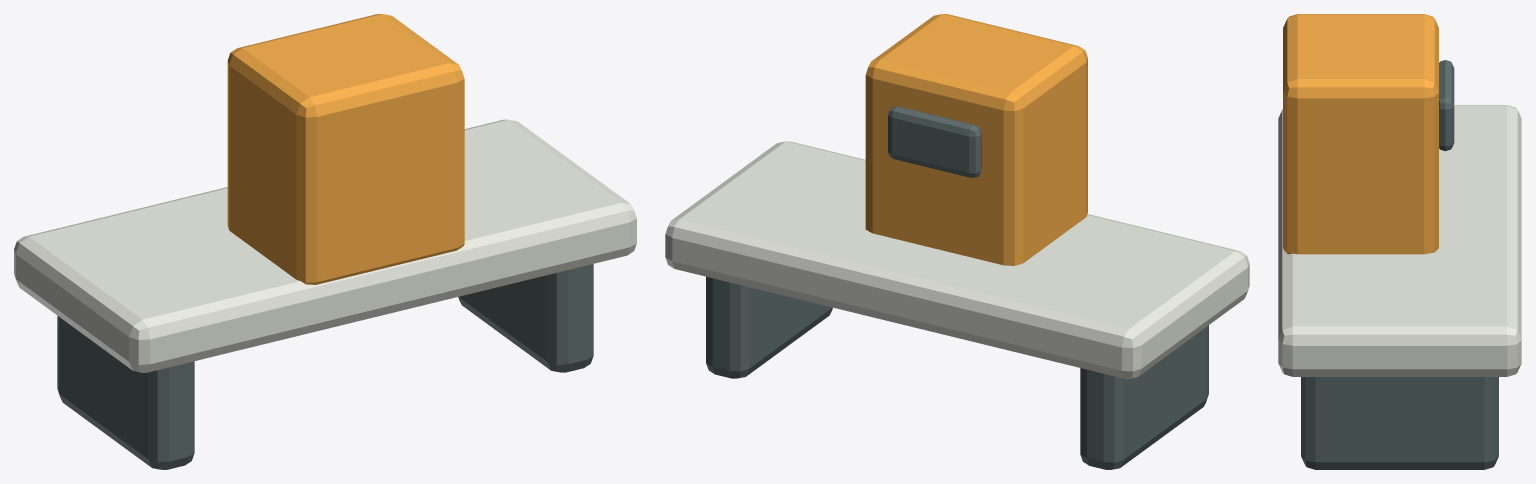
Rendered from workbench.glb.
3 views of the same model, side by side, from view 1: azimuth 30°, elevation 25°; view 2: azimuth 150°, elevation 25°; view 3: azimuth 270°, elevation 25° (orthographic). The views are drawn at different scales.
Visible parts, largest first — view 1: Bench, Machine, Bench leg, Bench leg.001; view 2: Bench, Machine, Bench leg, Bench leg.001, Machine screen; view 3: Bench, Machine, Bench leg.001, Machine screen.
Boxes of the visible parts, x1,y1,x2,y2 form: Bench: (14,119,636,372); Machine: (227,14,464,284); Bench leg: (57,316,194,469); Bench leg.001: (458,264,593,372); Bench: (665,141,1249,378); Machine: (865,14,1087,265); Bench leg: (1080,325,1208,469); Bench leg.001: (706,276,832,378); Machine screen: (888,106,981,177); Bench: (1278,105,1521,376); Machine: (1283,14,1438,254); Bench leg.001: (1301,377,1498,469); Machine screen: (1439,60,1454,151).
Bounding box in the file's own units: 1.7 × 1.11 × 0.75.
